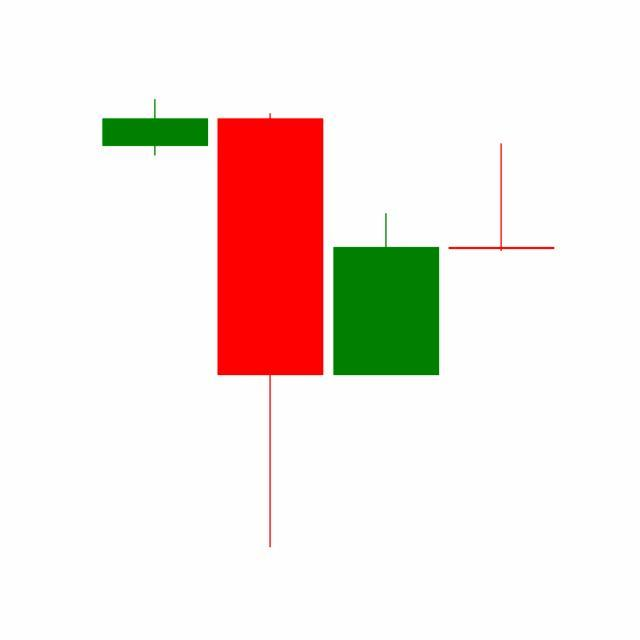Gravestone Doji: (444, 143, 560, 253)
